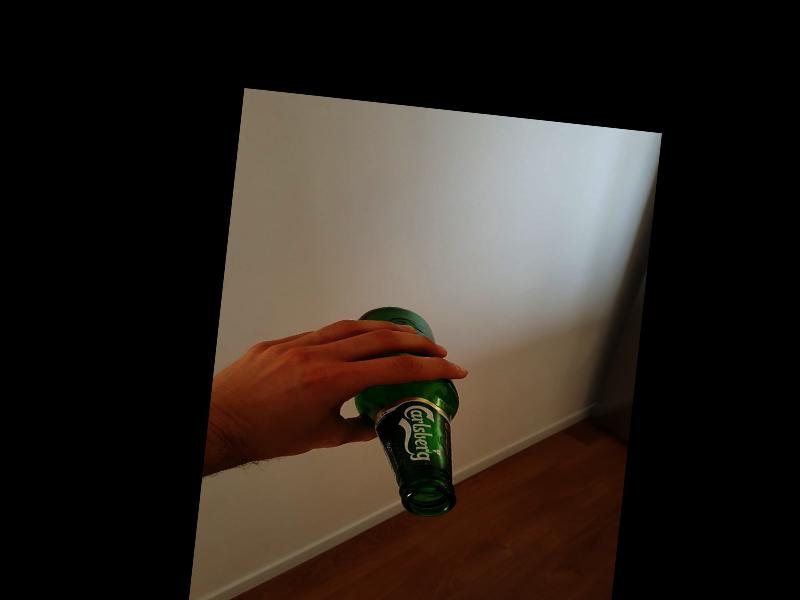Beer: (342, 304, 475, 520)
